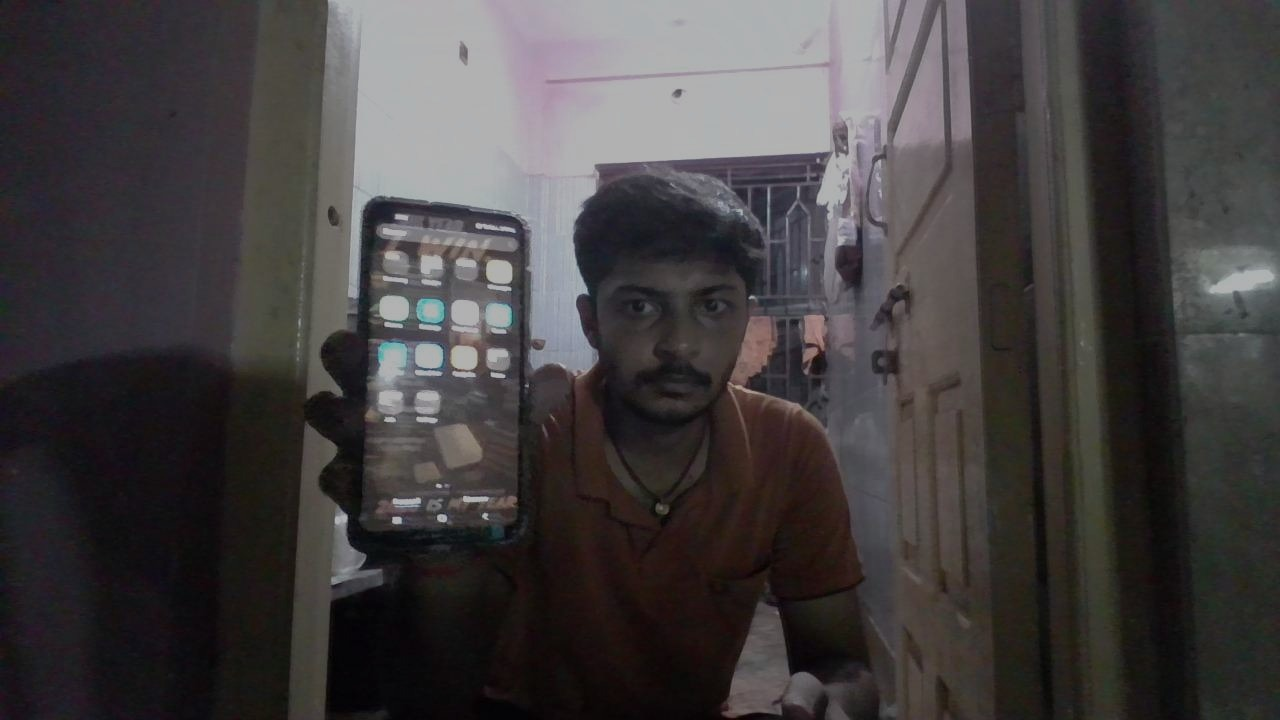red_box: (670, 399, 843, 565), (577, 443, 657, 529), (814, 504, 861, 587)
